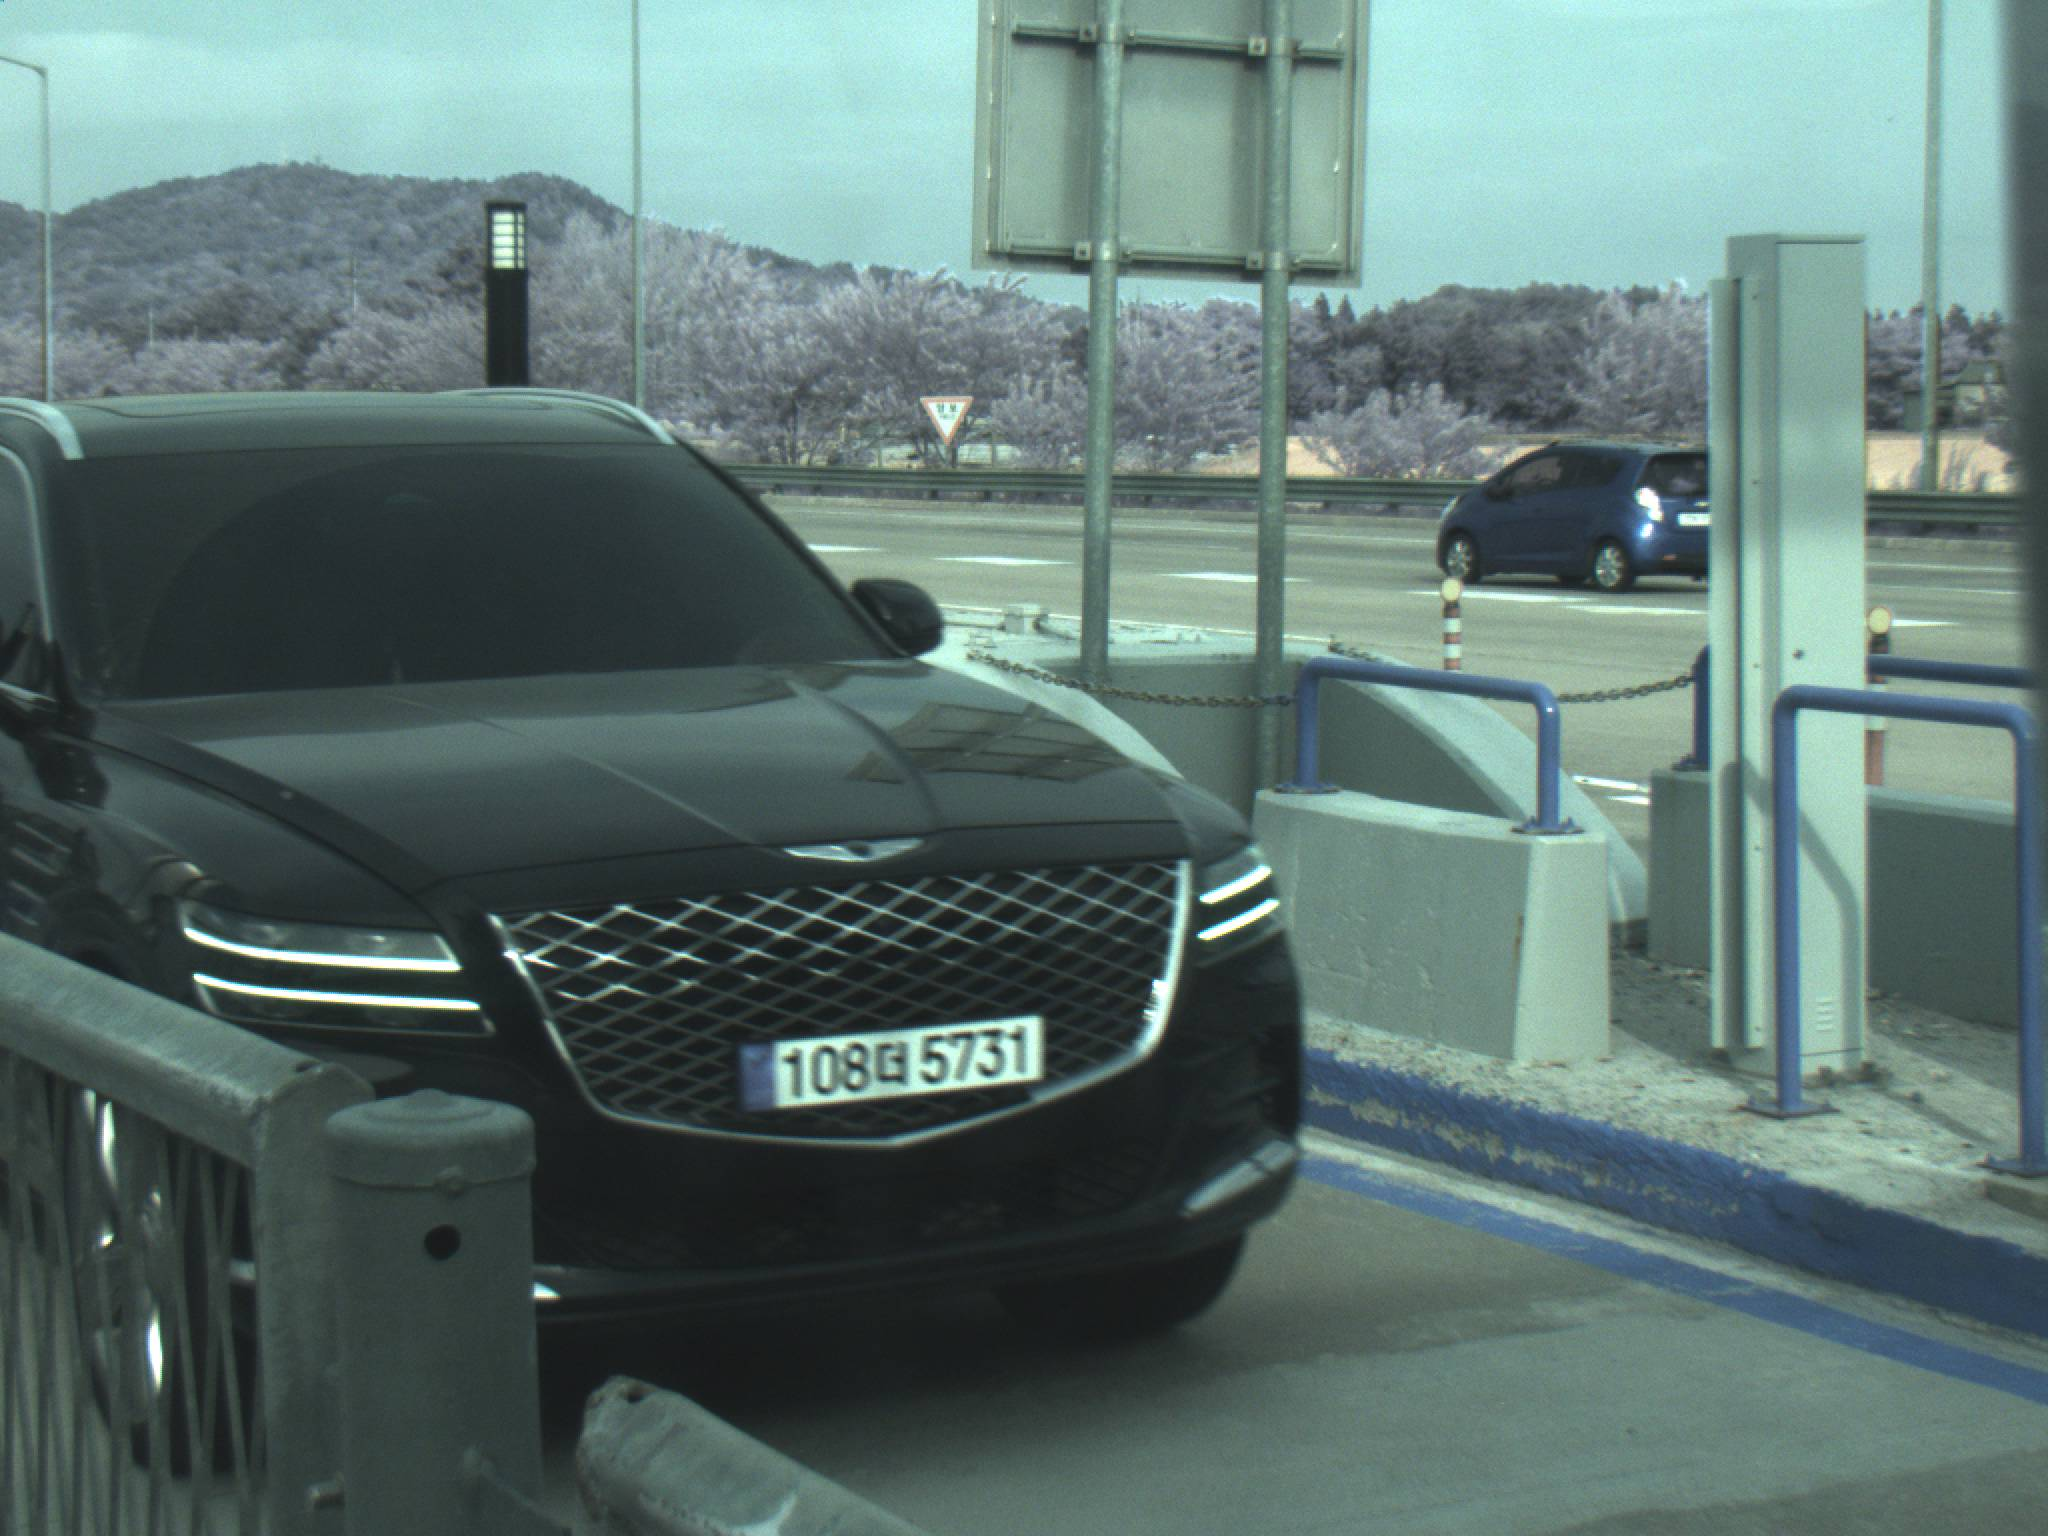car: (1, 379, 1310, 1481), (1431, 434, 1706, 600)
plate: (731, 1011, 1044, 1121)
